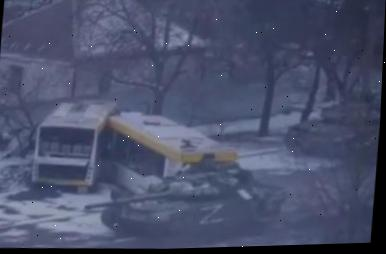tank: (82, 147, 290, 248), (280, 84, 382, 165)
